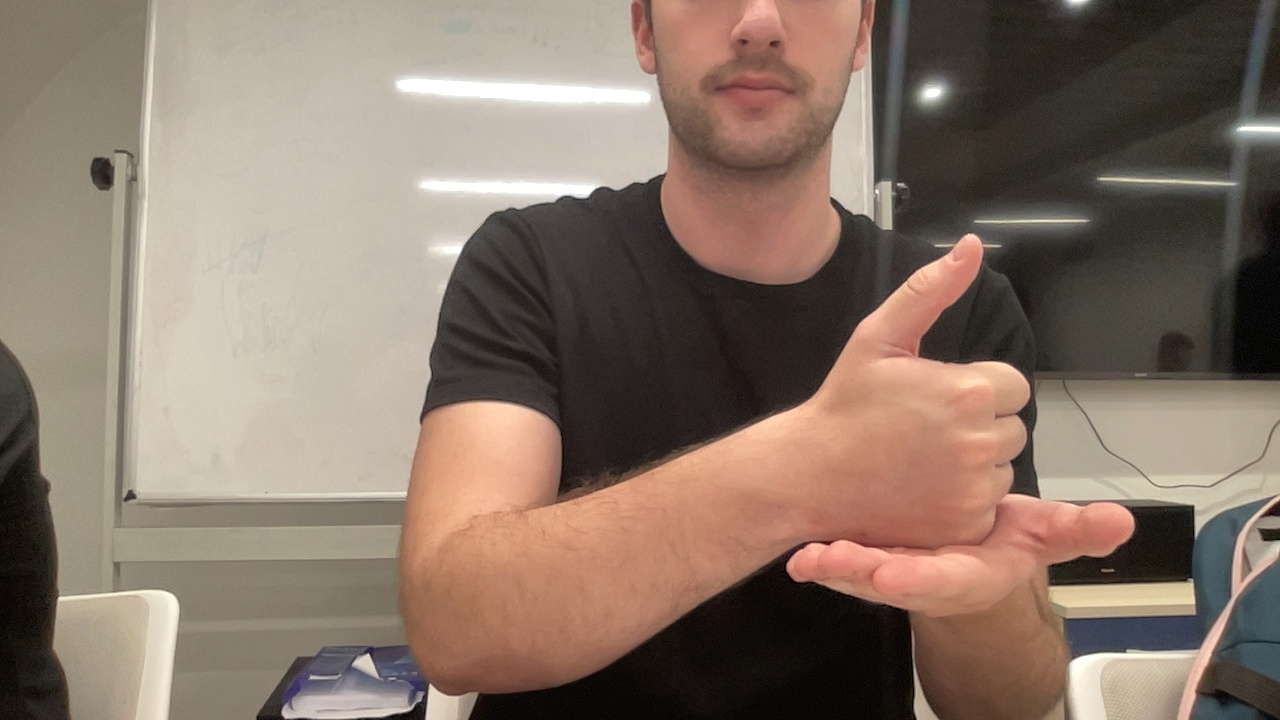Help: (770, 229, 1138, 621)
